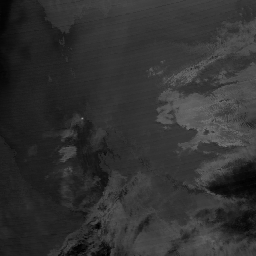Target: (79, 115, 85, 120)
